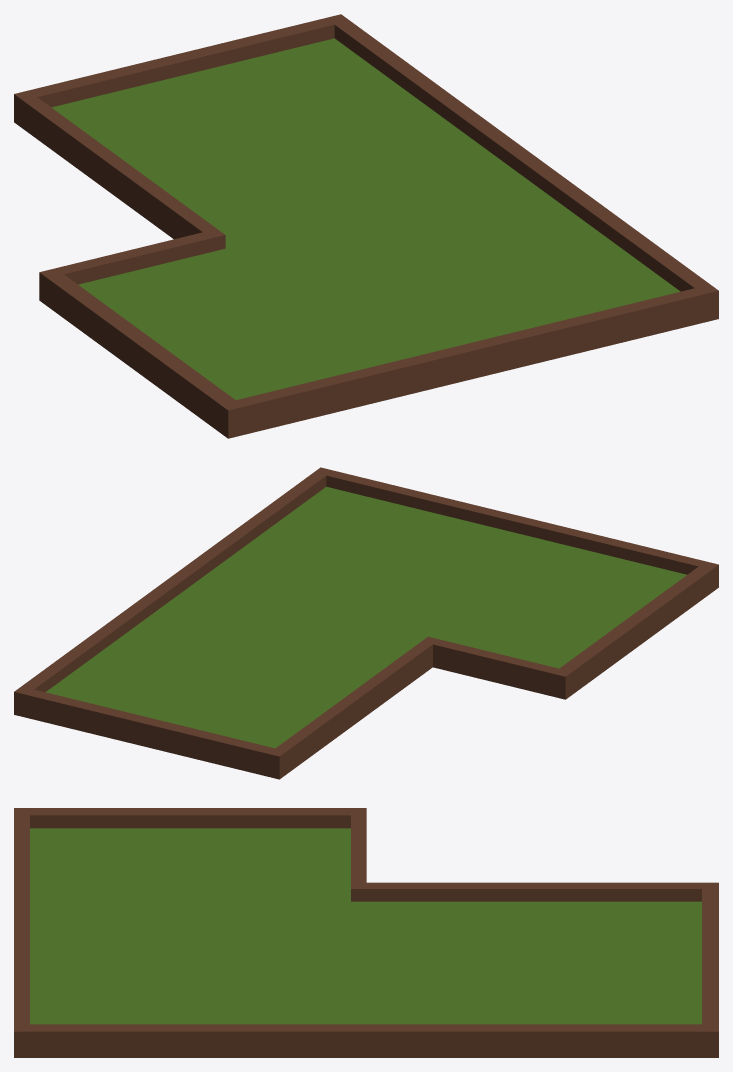
The model's file is testPlatform.gltf.
3 views of the same model, one above another, from view 1: azimuth 30°, elevation 25°; view 2: azimuth 150°, elevation 25°; view 3: azimuth 270°, elevation 25° (orthographic). The views are drawn at different scales.
Parts seen in each view (by area): view 1: testPlatform; view 2: testPlatform; view 3: testPlatform.
Boxes of the visible parts, bbox=[...] form: testPlatform: bbox=[14, 14, 718, 438]; testPlatform: bbox=[14, 467, 718, 779]; testPlatform: bbox=[14, 808, 718, 1057].
Bounding box in the file's own units: 15 × 0.8264 × 20.
1 material, 1 textured.
